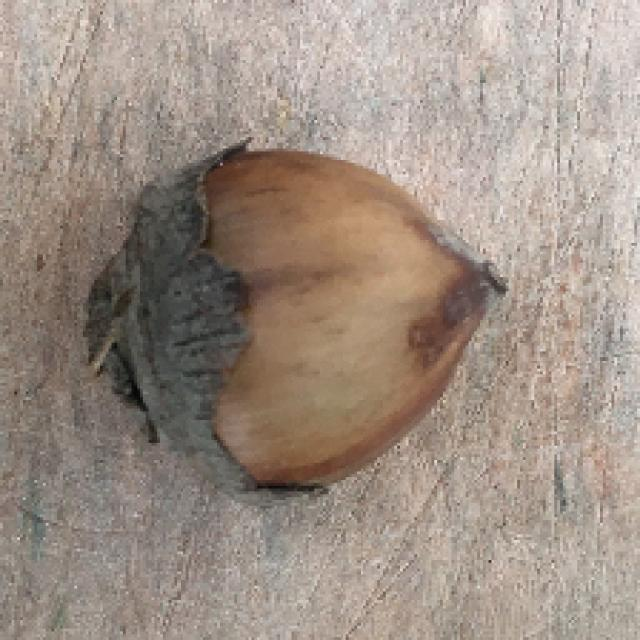DamagedHazelnut: (86, 145, 504, 511)
